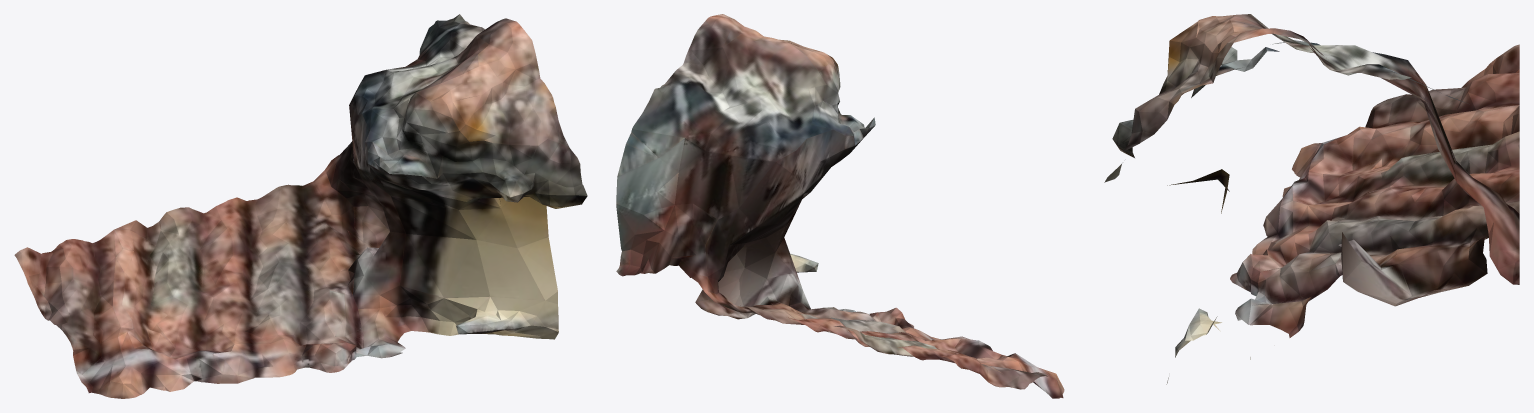
The picture shows the model from 3 angles, left to right: view 1: azimuth 30°, elevation 25°; view 2: azimuth 150°, elevation 25°; view 3: azimuth 270°, elevation 25°; orthographic projection. The views are drawn at different scales.
Bounding box in the file's own units: 1.67 × 1.15 × 1.21.
3 materials, 3 textured.
